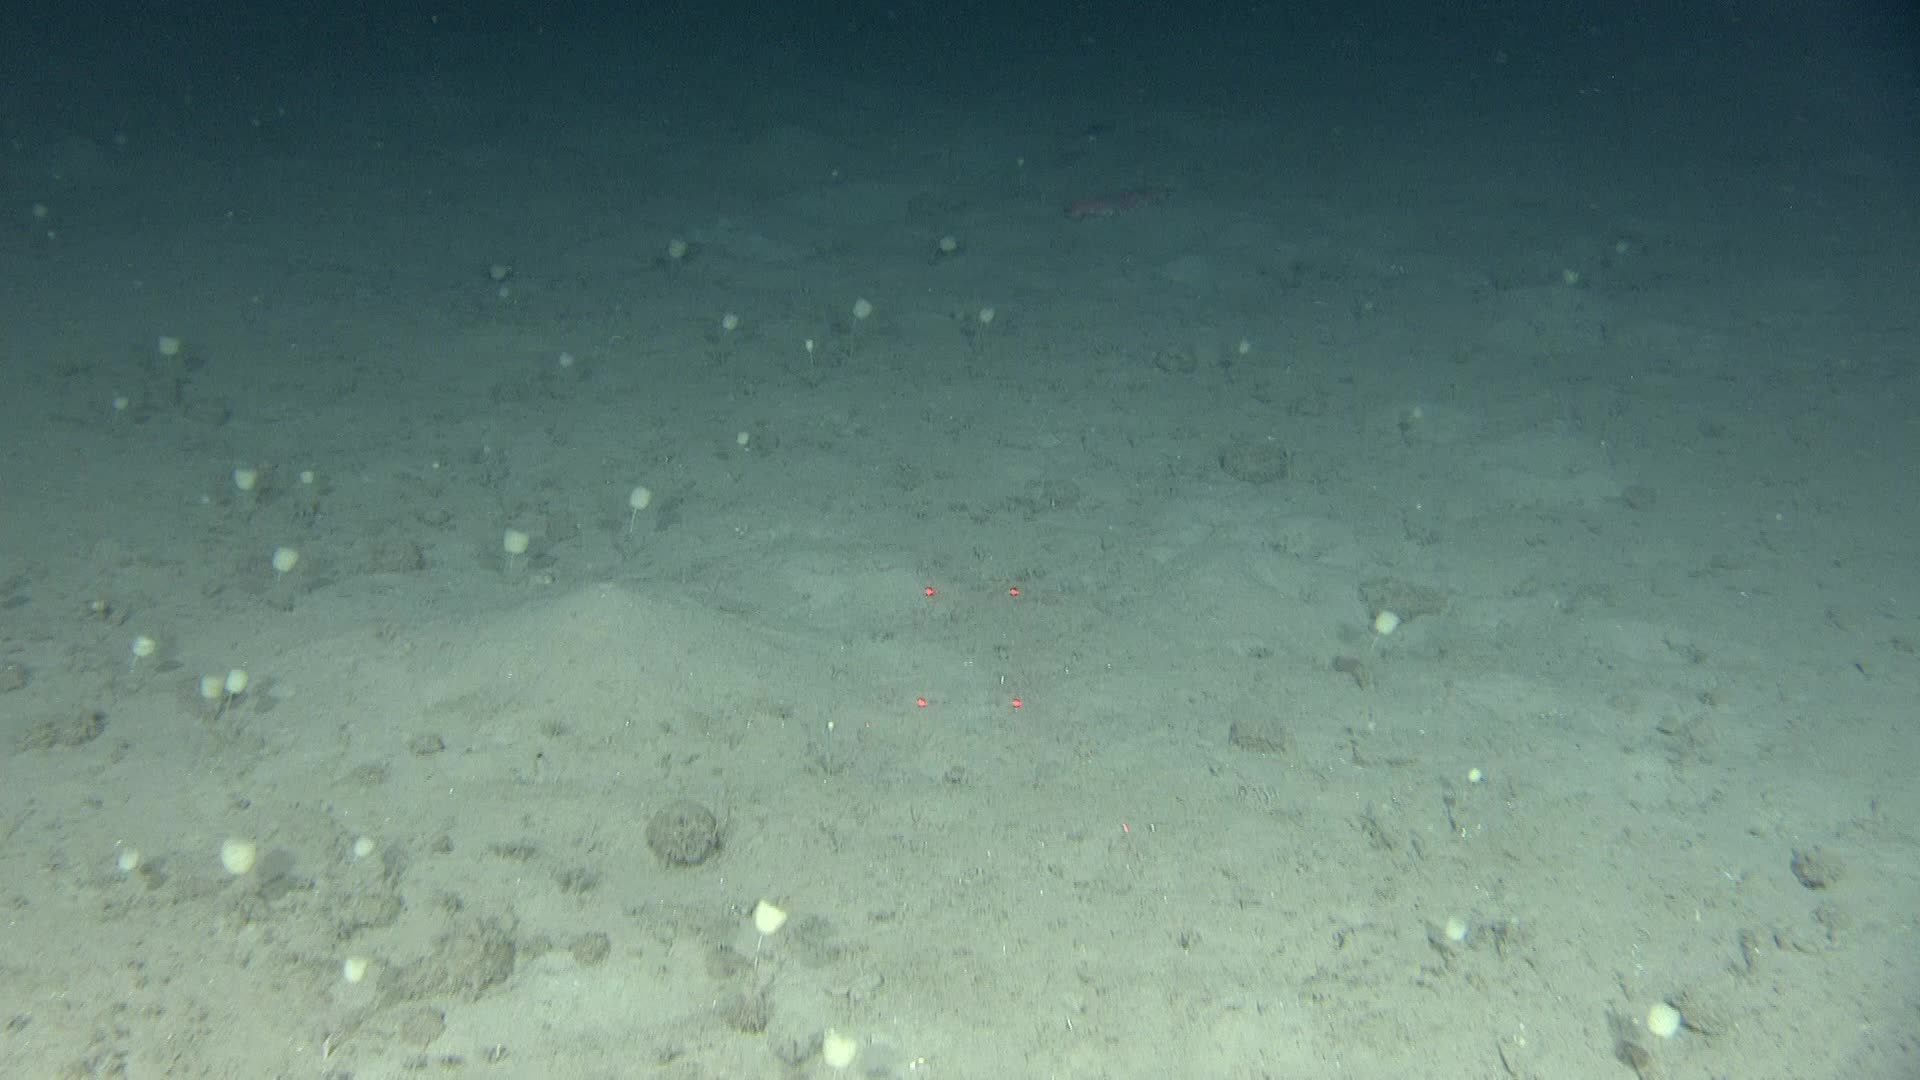S.borealis: (729, 880, 807, 977), (211, 820, 287, 907), (316, 940, 375, 1026), (1353, 600, 1411, 675), (1622, 1000, 1680, 1075), (816, 286, 873, 361), (489, 518, 547, 583), (336, 832, 393, 897), (527, 340, 585, 394), (913, 222, 969, 276), (153, 324, 193, 389), (615, 475, 653, 541), (115, 843, 153, 907), (211, 659, 249, 724), (193, 659, 231, 724), (115, 626, 153, 691), (269, 541, 307, 605), (231, 454, 269, 518), (711, 302, 749, 367), (1460, 756, 1498, 820), (1440, 907, 1478, 972), (287, 459, 327, 513), (653, 232, 691, 286), (1229, 330, 1267, 384), (1555, 253, 1593, 307), (1613, 222, 1651, 276), (1478, 38, 1516, 92), (480, 281, 518, 324), (1344, 291, 1382, 335), (1402, 389, 1440, 433), (1767, 497, 1805, 541), (193, 487, 231, 529), (480, 260, 518, 302), (787, 324, 825, 367), (231, 113, 269, 146), (807, 167, 845, 200), (105, 384, 125, 438), (969, 302, 989, 345), (1007, 152, 1027, 194), (740, 421, 758, 464), (105, 124, 125, 157), (9, 135, 29, 167), (47, 222, 67, 253), (29, 200, 47, 232)
